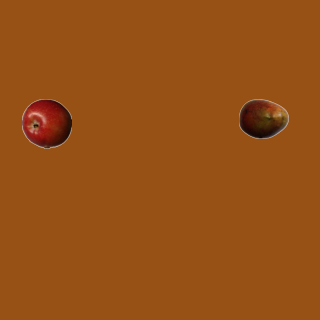Apple Braeburn: (21, 98, 71, 148)
Mango Red: (238, 93, 288, 143)
